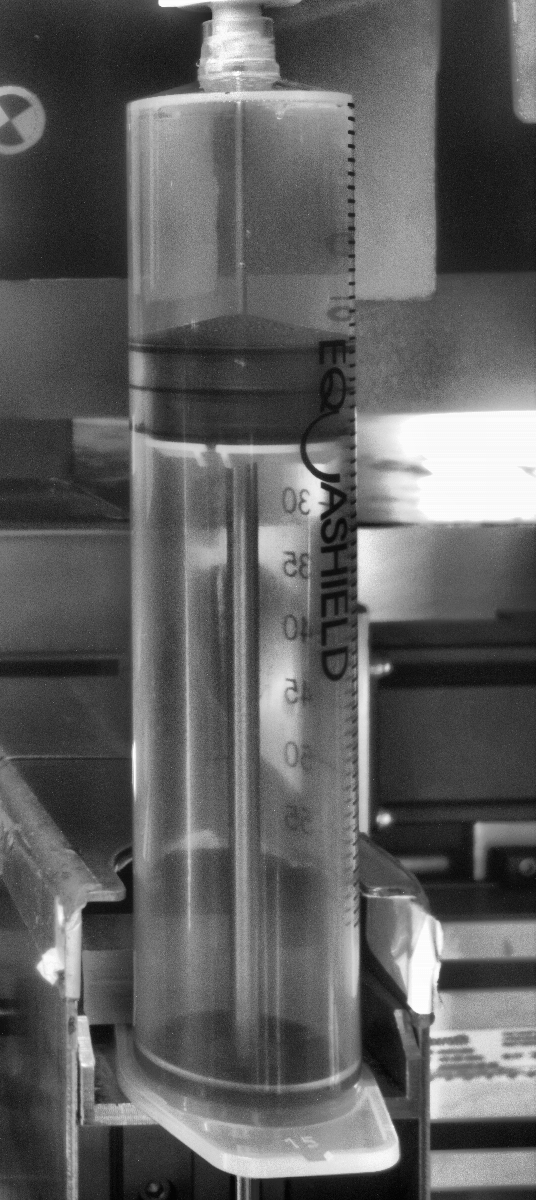piston: (127, 349, 357, 471)
